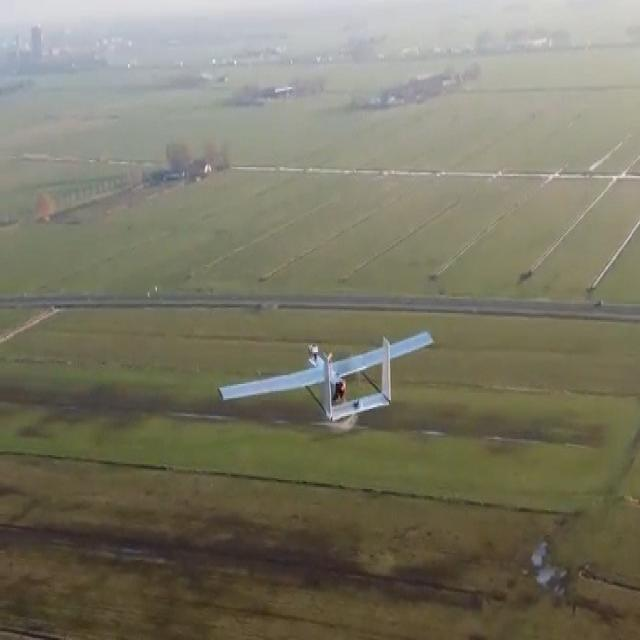iha: (218, 316, 425, 445)
